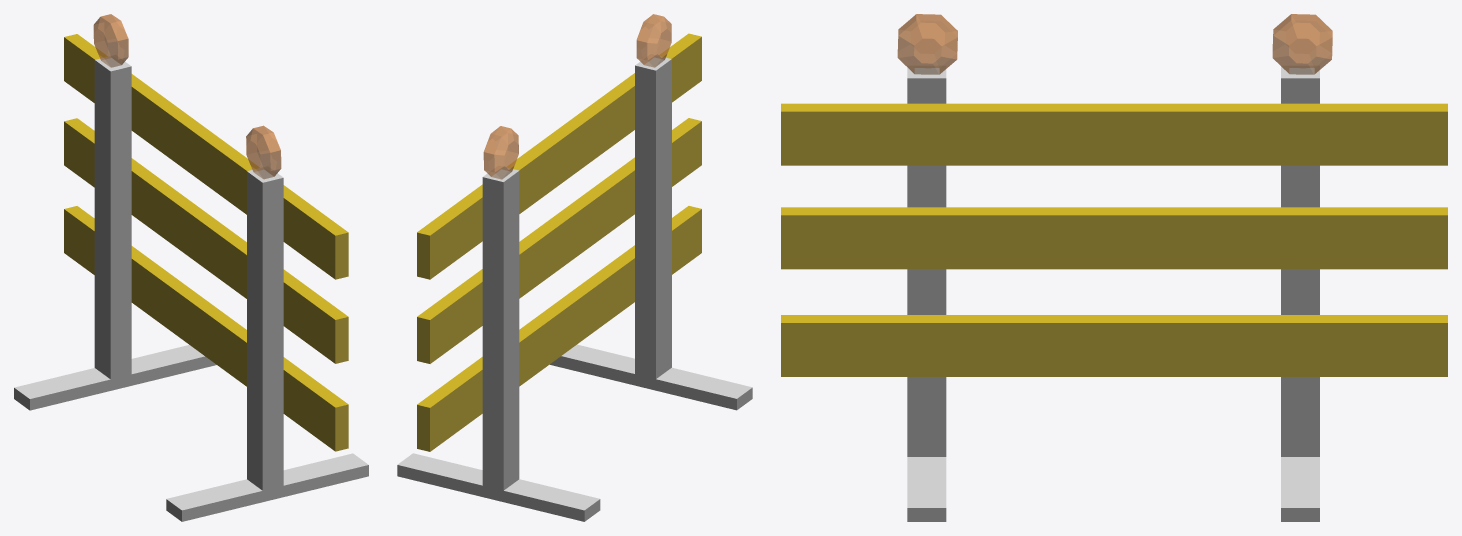
File: WoodBarrier.fbx
3 views of the same model, side by side, from view 1: azimuth 30°, elevation 25°; view 2: azimuth 150°, elevation 25°; view 3: azimuth 270°, elevation 25° (orthographic). The views are drawn at different scales.
Visible parts, largest first — view 1: Circle; view 2: Circle; view 3: Circle.
Part boxes in pixels (<box>): Circle: <box>14,14,368,521</box>; Circle: <box>397,14,752,521</box>; Circle: <box>781,14,1447,521</box>.
Bounding box in the file's own units: 178 × 331 × 447.
